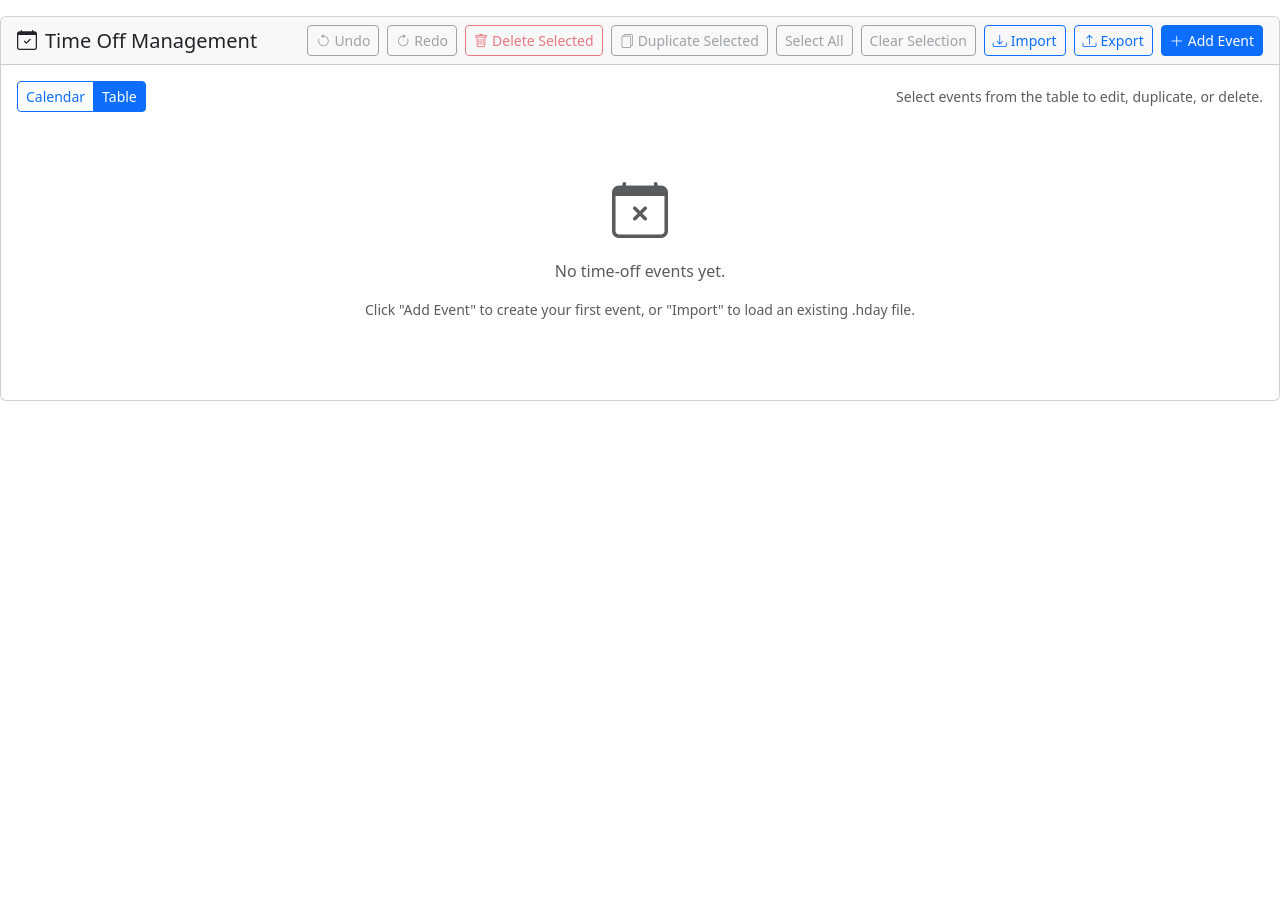
TimeOffView › Add Event Modal › should close modal when cancelled
Step 1. Click the button "Add Event" → click(1212, 40), box [1161,25,1263,56]
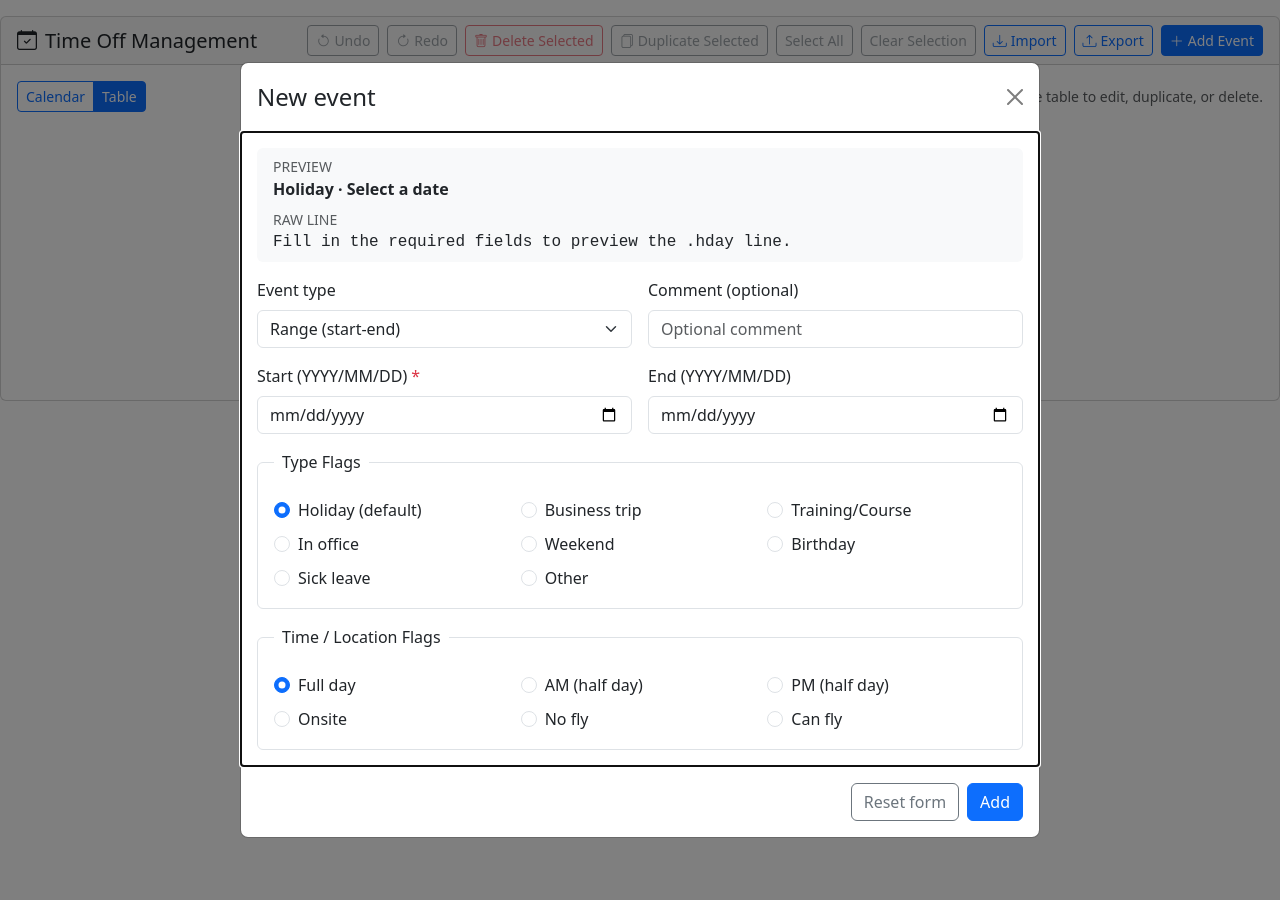
Step 2. Click the button named "Close" → click(1015, 97), box [999,81,1031,113]
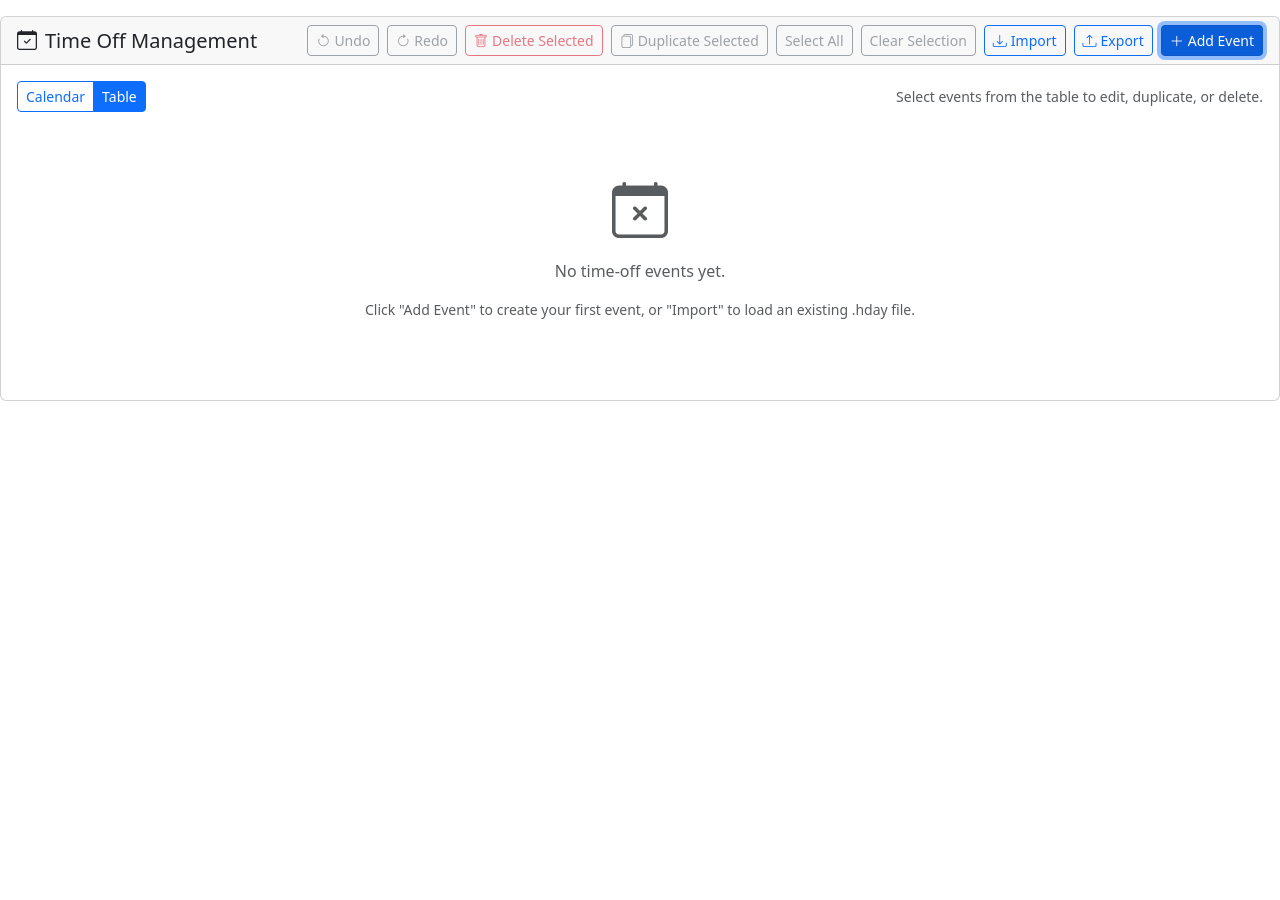
Result: the dialog is gone
